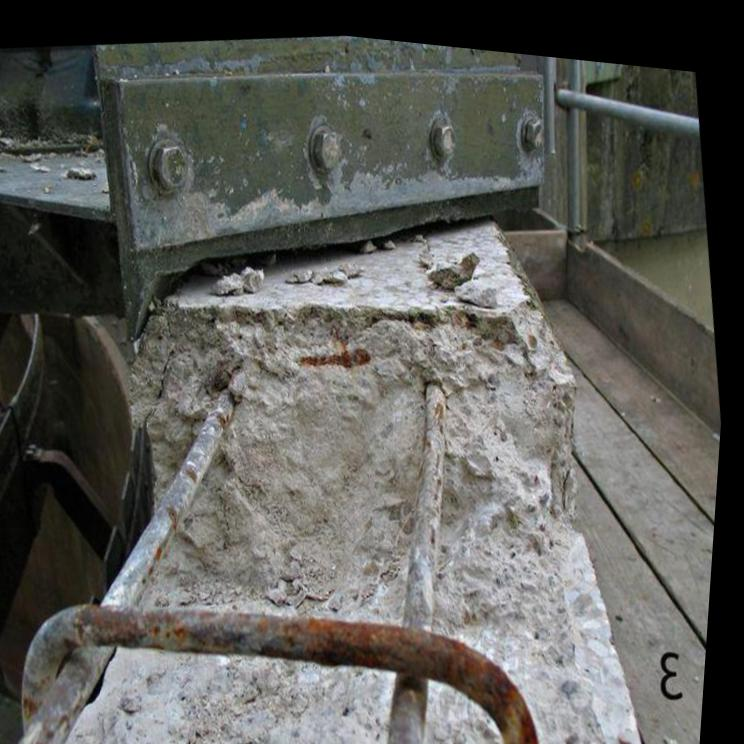damage: (23, 207, 659, 744)
